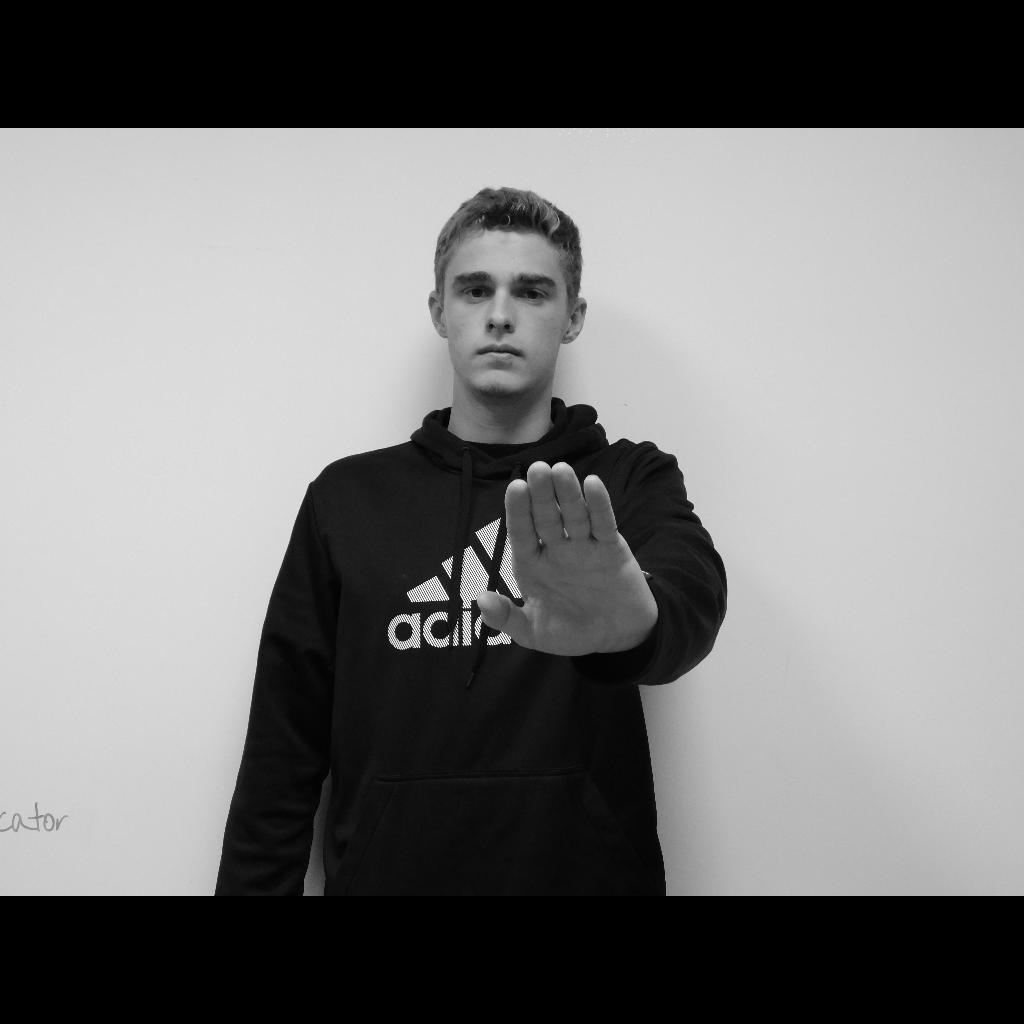your: (477, 462, 651, 656)
